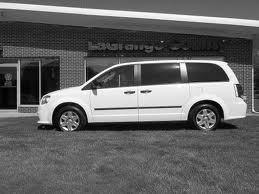car: (36, 58, 250, 134)
